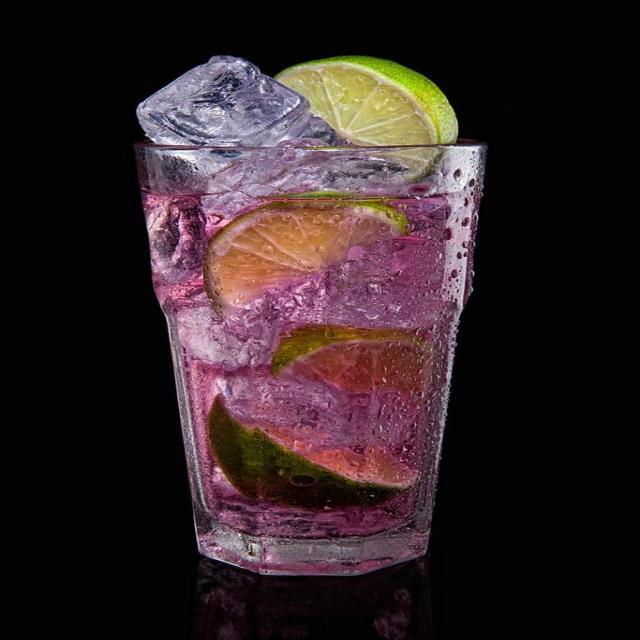Lemon: (208, 394, 420, 504), (280, 54, 459, 184), (211, 209, 406, 313), (267, 333, 439, 393)
